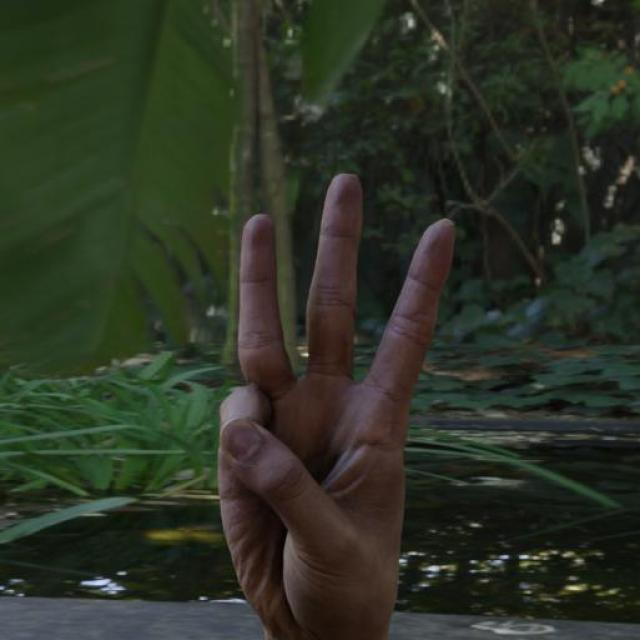W: (206, 160, 466, 636)
